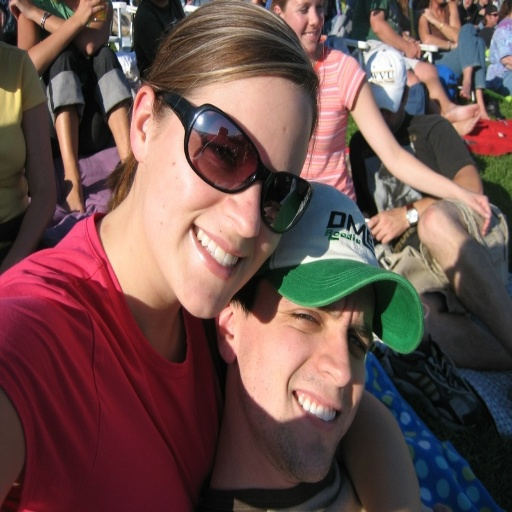hand: (370, 197, 421, 241), (463, 187, 492, 236), (74, 0, 105, 26), (7, 0, 32, 23), (402, 41, 418, 57), (410, 39, 422, 57), (421, 8, 433, 18), (0, 8, 6, 26), (448, 39, 458, 49)
